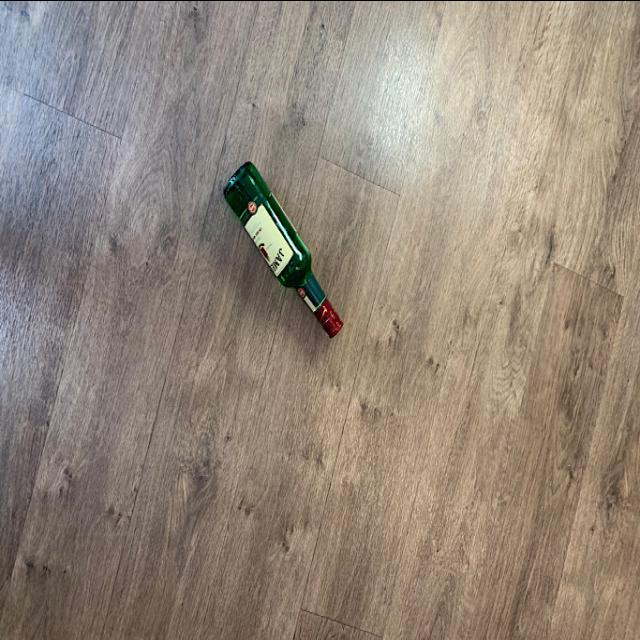Glass Bottle: (224, 155, 346, 339)
